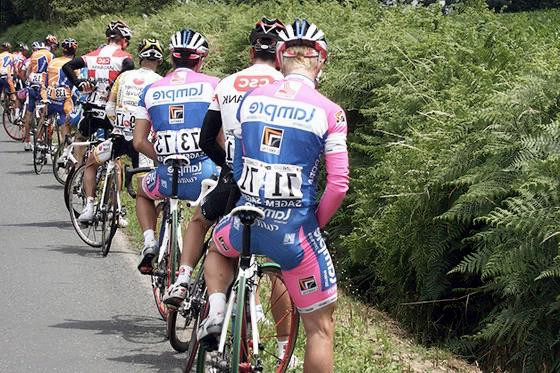With Helmet: (271, 17, 339, 83), (164, 22, 211, 81), (101, 14, 137, 50), (57, 32, 85, 57)
